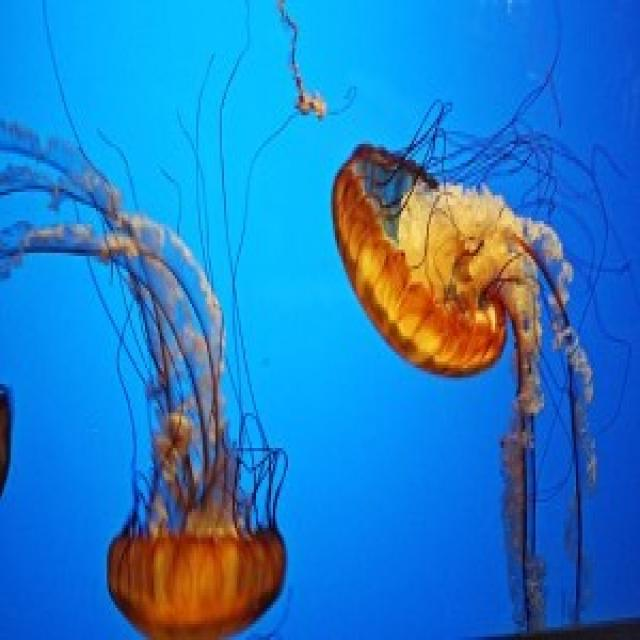Jellyfish: (327, 108, 615, 430), (102, 170, 294, 640)
